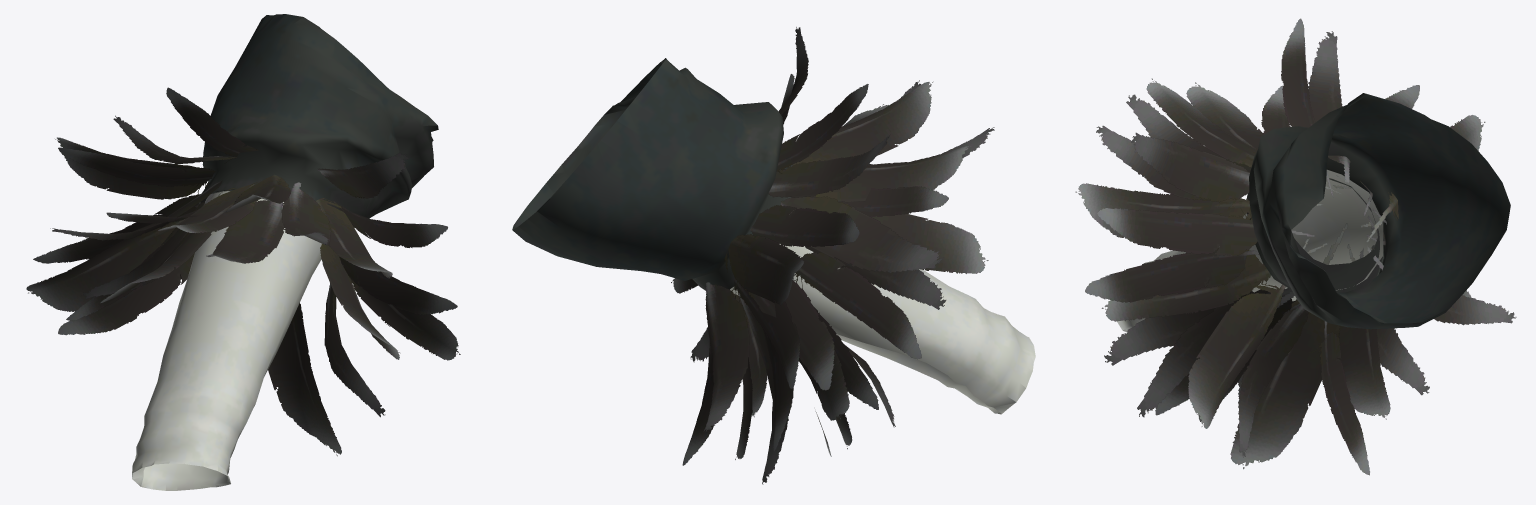
File: rightforearm.obj
The picture shows the model from 3 angles, left to right: view 1: azimuth 30°, elevation 25°; view 2: azimuth 150°, elevation 25°; view 3: azimuth 270°, elevation 25°; orthographic projection. The views are drawn at different scales.
Parts seen in each view (by area): view 1: rightforearm:Object01 rightforearm:polySurface2 rightforearm:pol, rightforearm:Object01 rightforearm:polySurface321 rightforearm:p; view 2: rightforearm:Object01 rightforearm:polySurface2 rightforearm:pol, rightforearm:Object01 rightforearm:polySurface321 rightforearm:p; view 3: rightforearm:Object01 rightforearm:polySurface2 rightforearm:pol, rightforearm:Object01 rightforearm:polySurface321 rightforearm:p.
Part boxes in pixels (x1,y1,x2,y2): rightforearm:Object01 rightforearm:polySurface2 rightforearm:pol: [26, 87, 460, 490]; rightforearm:Object01 rightforearm:polySurface321 rightforearm:p: [198, 14, 438, 227]; rightforearm:Object01 rightforearm:polySurface2 rightforearm:pol: [671, 27, 1035, 484]; rightforearm:Object01 rightforearm:polySurface321 rightforearm:p: [512, 58, 793, 290]; rightforearm:Object01 rightforearm:polySurface2 rightforearm:pol: [1075, 18, 1516, 475]; rightforearm:Object01 rightforearm:polySurface321 rightforearm:p: [1246, 93, 1510, 329].
Size of the model in its own units: 4.85 by 4.81 by 4.84.
Materials: 2 (2 with a texture image).
